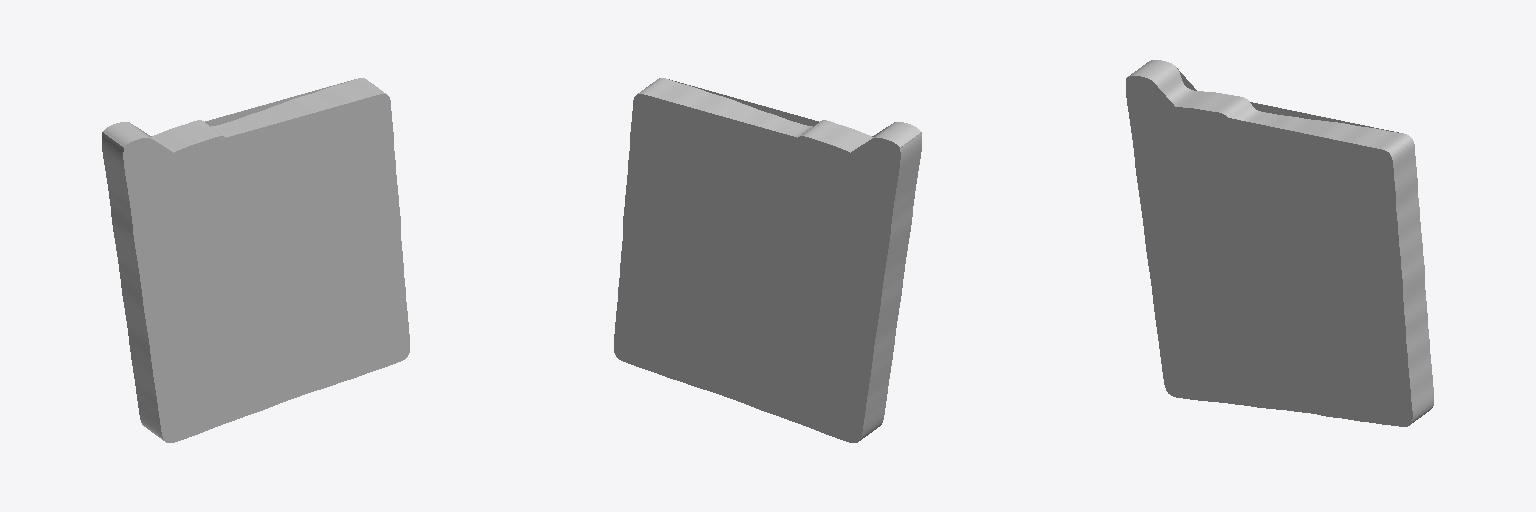
3 views of the same model, side by side, from view 1: azimuth 30°, elevation 25°; view 2: azimuth 150°, elevation 25°; view 3: azimuth 330°, elevation 25° (orthographic).
Visible parts, largest first — view 1: 平面; view 2: 平面; view 3: 平面.
Boxes of the visible parts, box(x1,y1,x2,y2) form: 平面: box(102, 78, 409, 442); 平面: box(614, 78, 921, 442); 平面: box(1126, 60, 1433, 426).
Bounding box in the file's own units: 1.52 × 1.58 × 0.2.